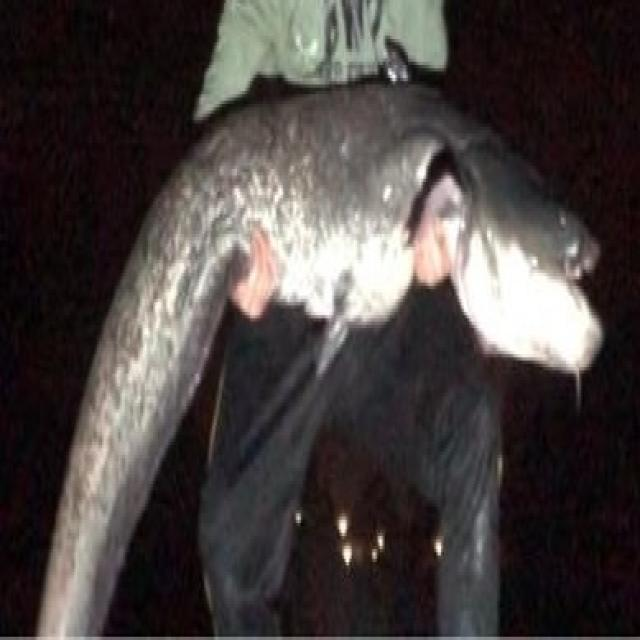Catfish: (22, 65, 604, 640)
